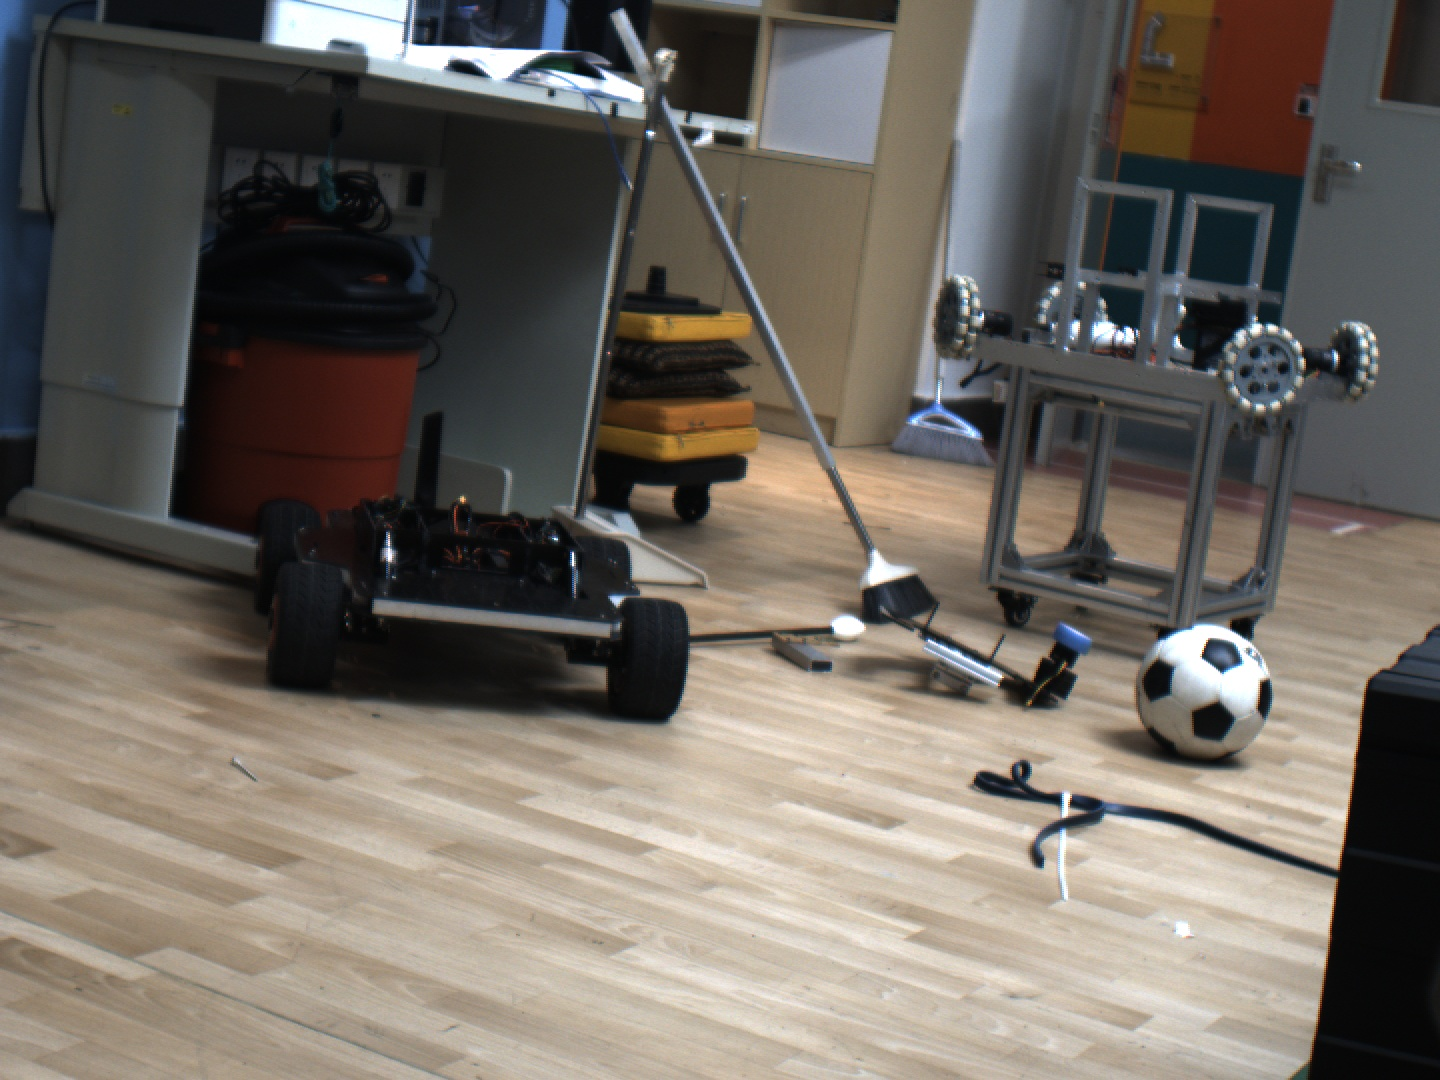ball: (1135, 617, 1281, 766)
